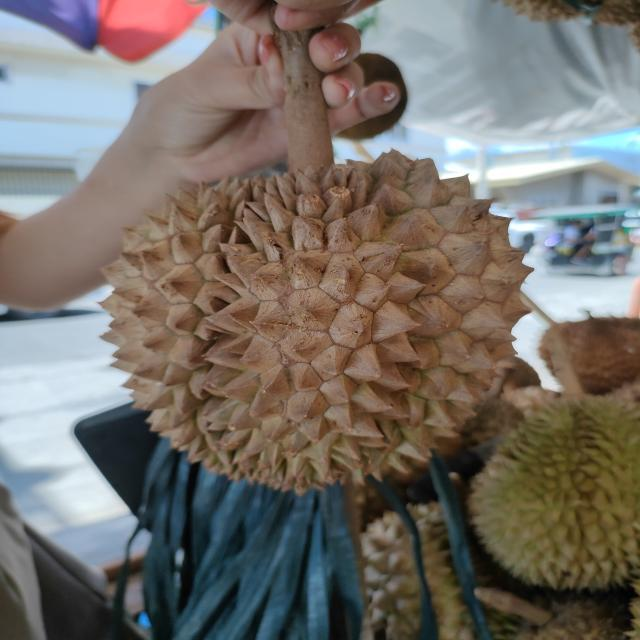mature: (94, 147, 542, 503)
